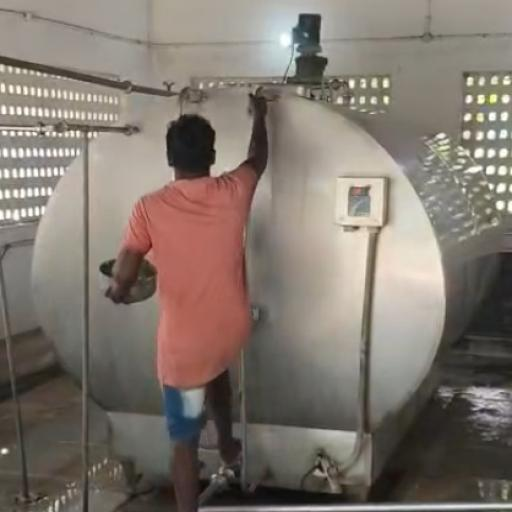silo: (29, 79, 509, 493)
vessel: (97, 258, 157, 303)
